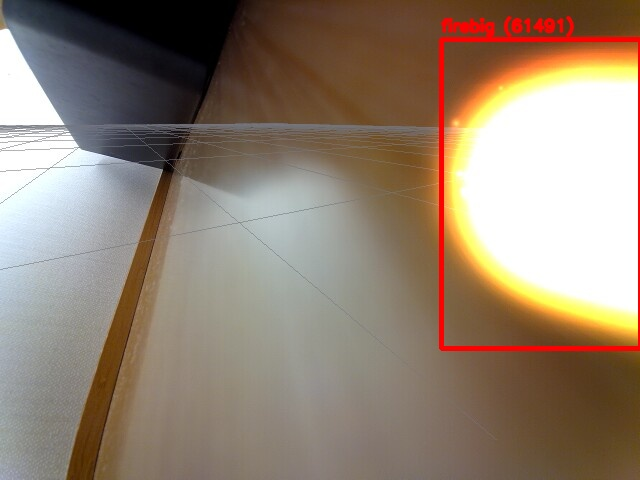firebig: (441, 39, 640, 348)
